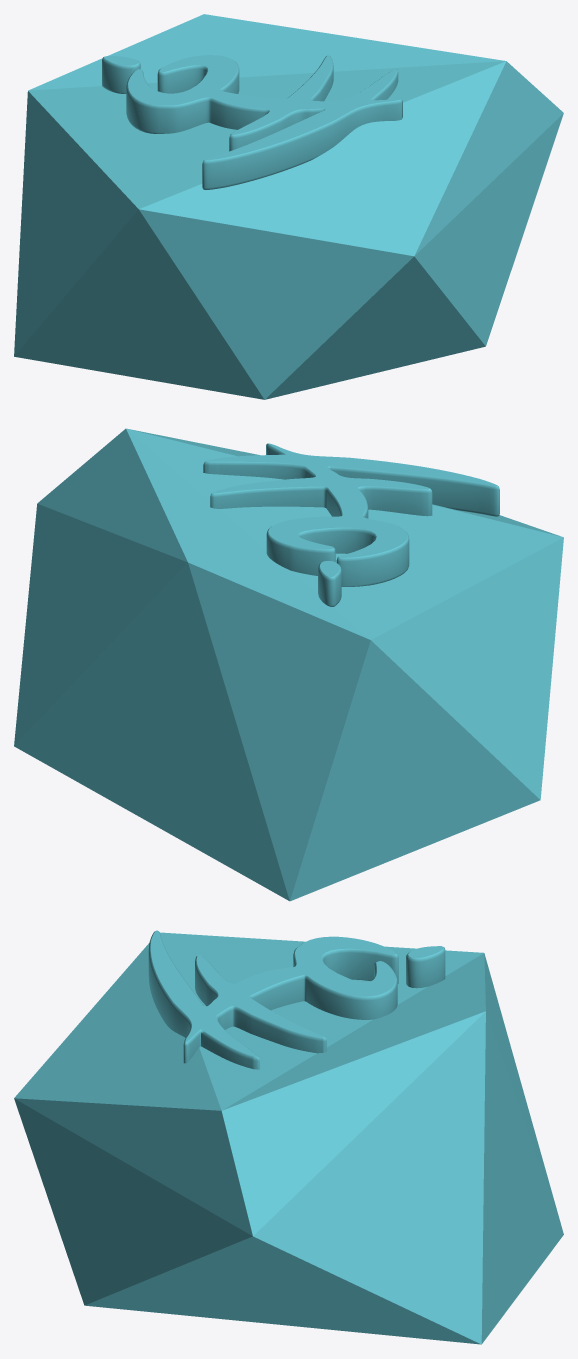
The model's file is besinci.fbx.
3 renders of one model, top to bottom at view 1: azimuth 30°, elevation 25°; view 2: azimuth 150°, elevation 25°; view 3: azimuth 270°, elevation 25°, orthographic. The views are drawn at different scales.
Parts seen in each view (by area): view 1: Icosphere.004, Curve.005; view 2: Icosphere.004, Curve.005; view 3: Icosphere.004, Curve.005.
Boxes of the visible parts, bbox=[...] form: Icosphere.004: bbox=[14, 14, 563, 399]; Curve.005: bbox=[102, 55, 402, 189]; Icosphere.004: bbox=[14, 428, 563, 901]; Curve.005: bbox=[203, 443, 499, 606]; Icosphere.004: bbox=[14, 932, 563, 1344]; Curve.005: bbox=[148, 930, 445, 1069].
Bounding box in the file's own units: 345 × 172 × 290.
